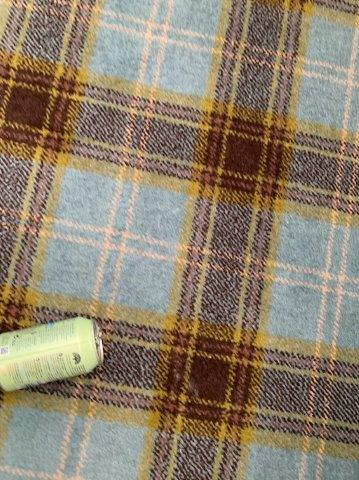kaleng: (1, 317, 103, 392)
